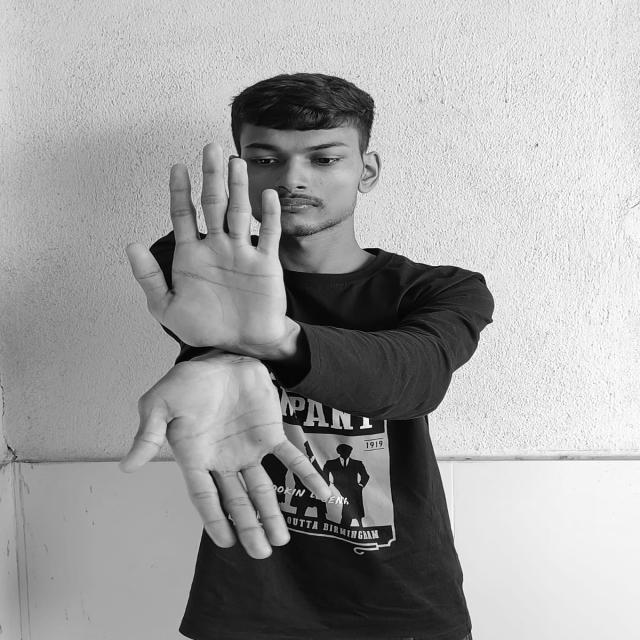Morning: (119, 139, 338, 565)
